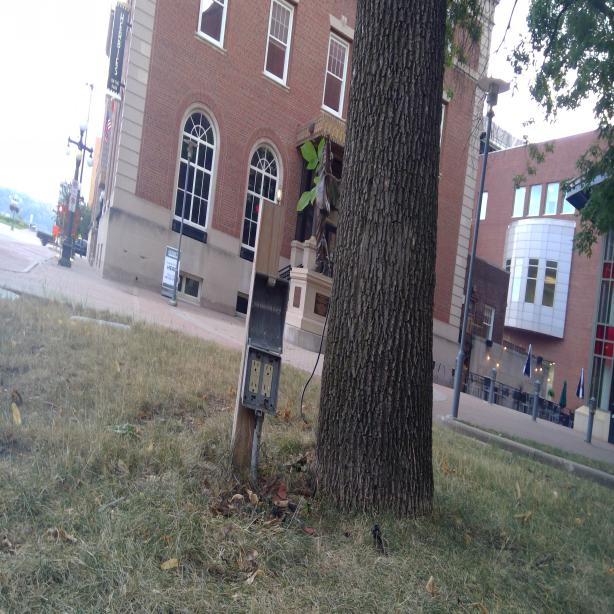typeb: (251, 358, 261, 374), (249, 378, 259, 394), (264, 363, 274, 378), (262, 382, 271, 398)
